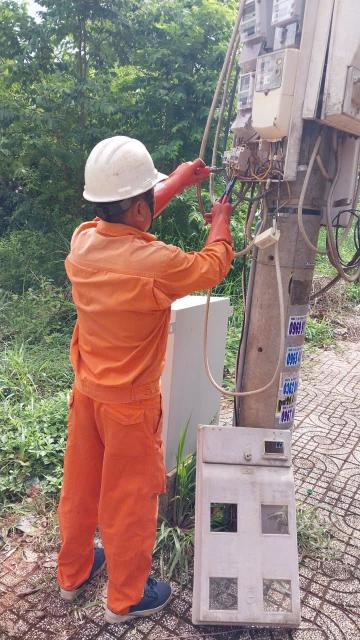gloves: (146, 159, 211, 199), (200, 190, 235, 247)
helmet: (68, 136, 178, 203)
shoes: (60, 532, 108, 600), (106, 581, 180, 619)
